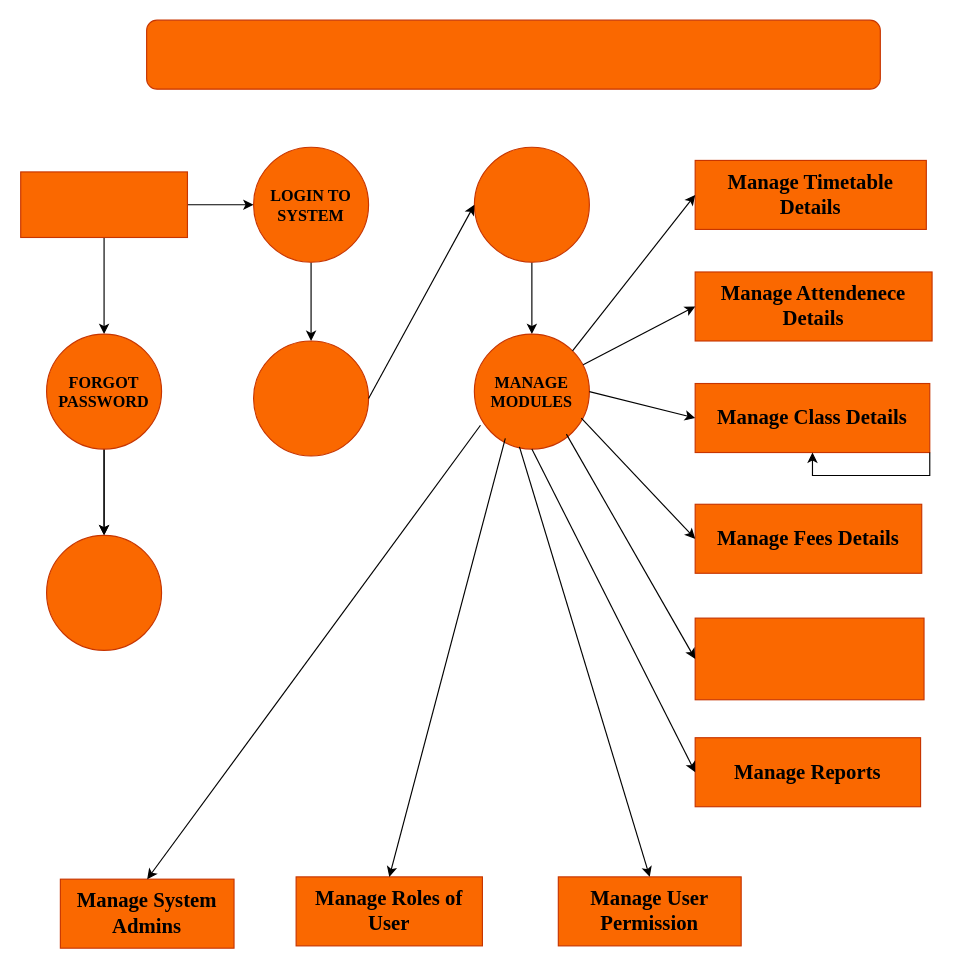
This 959x975 diagram has some shape labels left out. The centre of each missing label's shape, as x and y in pixels:
"ADMIN" belongs at point 103,204.
"CHECK Credentials" belongs at point 310,398.
"CHECK ROLES OF ACCESS" belongs at point 531,204.
"Manage Teacher Profile" belongs at point 809,658.
"Send Email to user" belongs at point 103,592.
"STUDENT INFORMATION SYSTEM" belongs at point 512,54.
